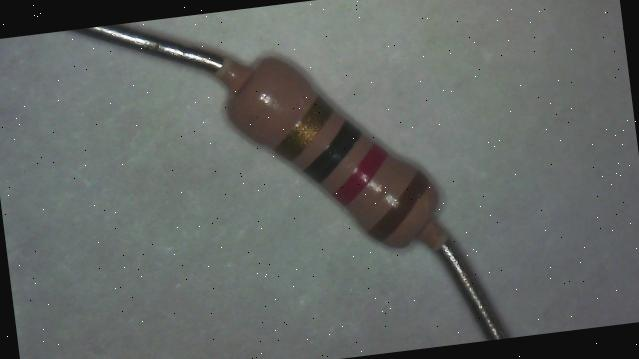black: (298, 118, 368, 186)
brown: (362, 169, 436, 242)
gold: (269, 93, 341, 164)
red: (328, 140, 392, 206)
resistor: (189, 24, 482, 266)
